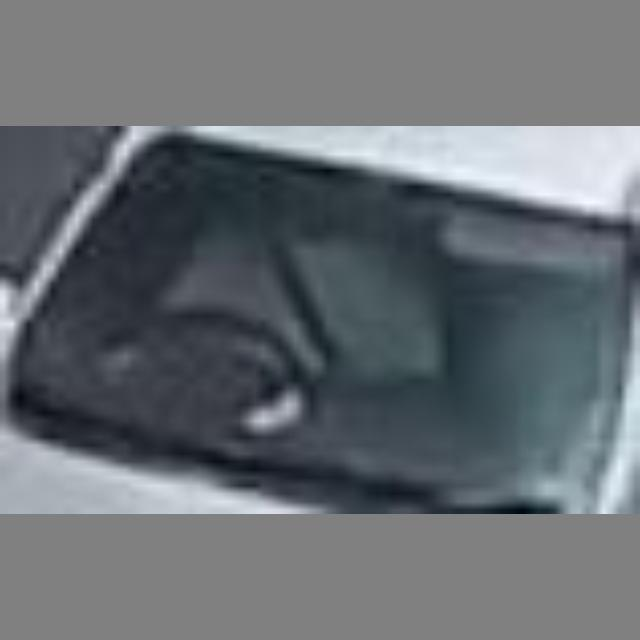pakai: (194, 183, 413, 385)
